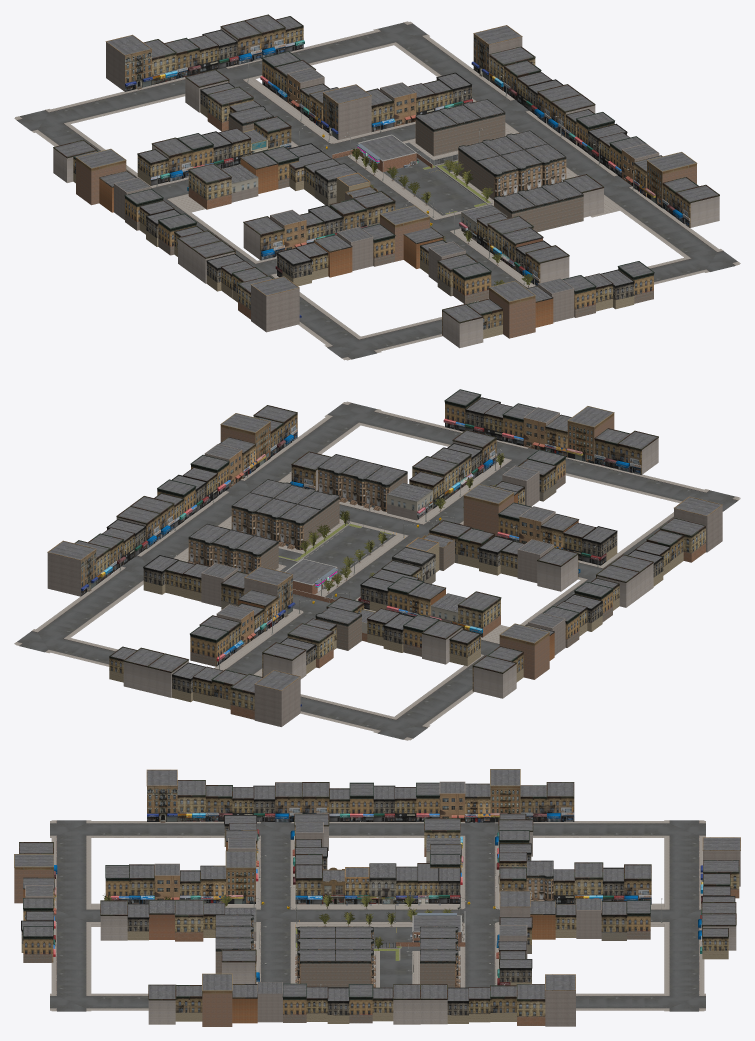
File: prologue.glb
The picture shows the model from 3 angles, top to bottom: view 1: azimuth 30°, elevation 25°; view 2: azimuth 150°, elevation 25°; view 3: azimuth 270°, elevation 25°; orthographic projection.
Parts seen in each view (by area): view 1: Road.009, Road.012, Road.002, Road.010, Road.006, building_16.003, building_16.001, building_16.004, building_08.004, building_08.003, building_15.003, building_03.005 (+89 smaller); view 2: Road.009, Road.012, Road.002, Road.010, building_16.002, building_16.004, Road.006, building_08.004, building_08.003, building_08.001, building_18.011, building_15.003 (+89 smaller); view 3: Road.009, Road.012, Road.002, Road.010, Road.005, Road.007, building_08.002, building_16.003, building_16.002, building_08.001, Road.008, building_08.003 (+94 smaller).
Part boxes in pixels (box(x1,y1,x2,y2)): Road.009: box(273, 189, 740, 360); Road.012: box(14, 21, 510, 185); Road.002: box(337, 127, 573, 217); Road.010: box(335, 97, 634, 231); Road.006: box(217, 66, 336, 147); building_16.003: box(250, 276, 301, 332); building_16.001: box(321, 84, 371, 139); building_16.004: box(105, 34, 152, 91); building_08.004: box(488, 280, 535, 338); building_08.003: box(76, 148, 126, 205); building_15.003: box(187, 163, 231, 209); building_03.005: box(415, 110, 457, 156); Road.009: box(245, 401, 740, 565); Road.012: box(14, 569, 481, 740); Road.002: box(178, 520, 413, 600); Road.010: box(118, 476, 419, 611); building_16.002: box(47, 540, 98, 596); building_16.004: box(254, 670, 301, 726); Road.006: box(214, 611, 315, 676); building_08.004: box(566, 406, 614, 463); building_08.003: box(499, 623, 549, 679); building_08.001: box(463, 484, 513, 536); building_18.011: box(472, 655, 516, 698); building_15.003: box(457, 591, 501, 637); Road.009: box(50, 820, 253, 1011); Road.012: box(533, 820, 705, 1011); Road.002: box(297, 903, 458, 987); Road.010: box(253, 925, 499, 987); Road.005: box(460, 822, 499, 906); Road.007: box(256, 822, 295, 906); building_08.002: box(202, 973, 232, 1026); building_16.003: box(146, 769, 177, 822); building_16.002: box(545, 974, 575, 1026); building_08.001: box(225, 851, 256, 903); Road.008: box(329, 822, 424, 837); building_08.003: box(490, 769, 520, 822).
Size of the model in its own units: 242 by 19.17 by 335.
Materials: 172 (169 with a texture image).
